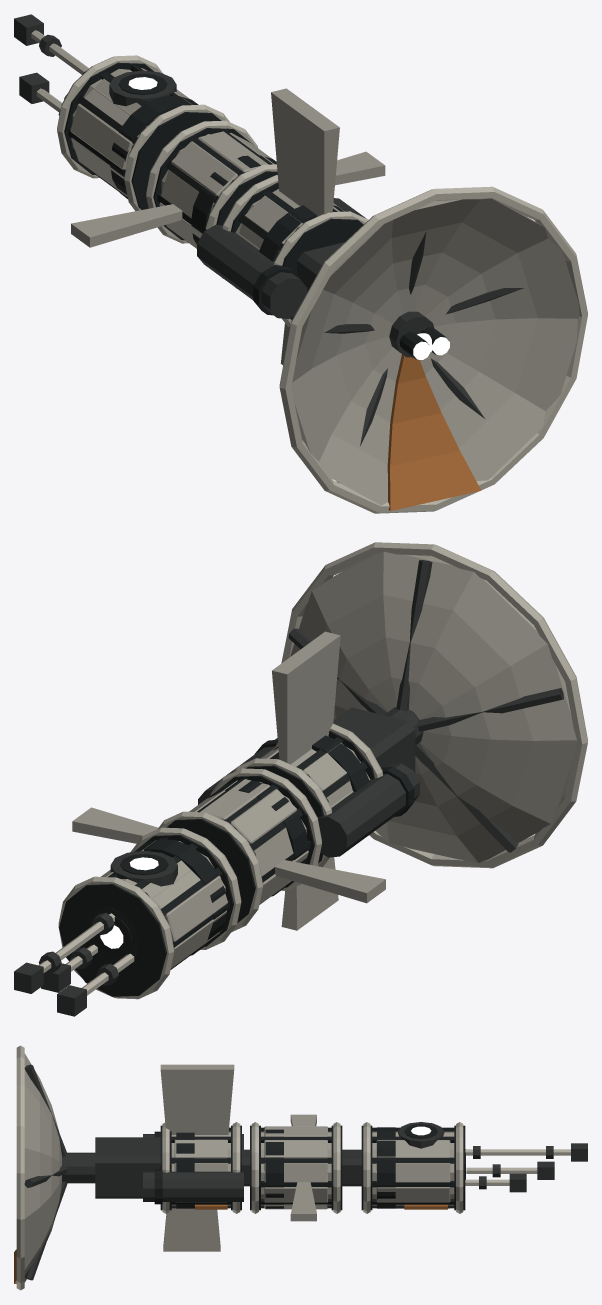
3 views of the same model, one above another, from view 1: azimuth 30°, elevation 25°; view 2: azimuth 150°, elevation 25°; view 3: azimuth 270°, elevation 25° (orthographic). The views are drawn at different scales.
Parts seen in each view (by area): view 1: RIMWARD_HULL, RIMWARD_EMISSIVE; view 2: RIMWARD_HULL, RIMWARD_EMISSIVE; view 3: RIMWARD_HULL.
Part boxes in pixels (x1,y1,x2,y2): RIMWARD_HULL: (14, 14, 587, 513); RIMWARD_EMISSIVE: (128, 77, 449, 359); RIMWARD_HULL: (14, 542, 587, 1016); RIMWARD_EMISSIVE: (100, 857, 158, 948); RIMWARD_HULL: (14, 1045, 587, 1290).
Bounding box in the file's own units: 3.16 × 3.16 × 7.4.
